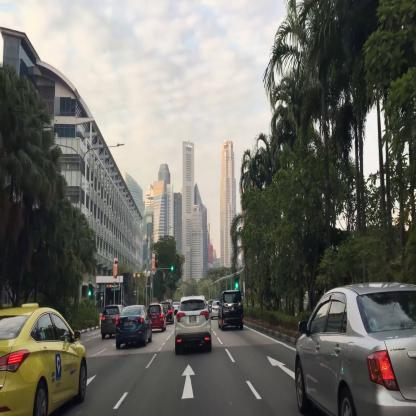green_traffic_light: (89, 284, 92, 296), (235, 277, 238, 288), (172, 266, 176, 270)
